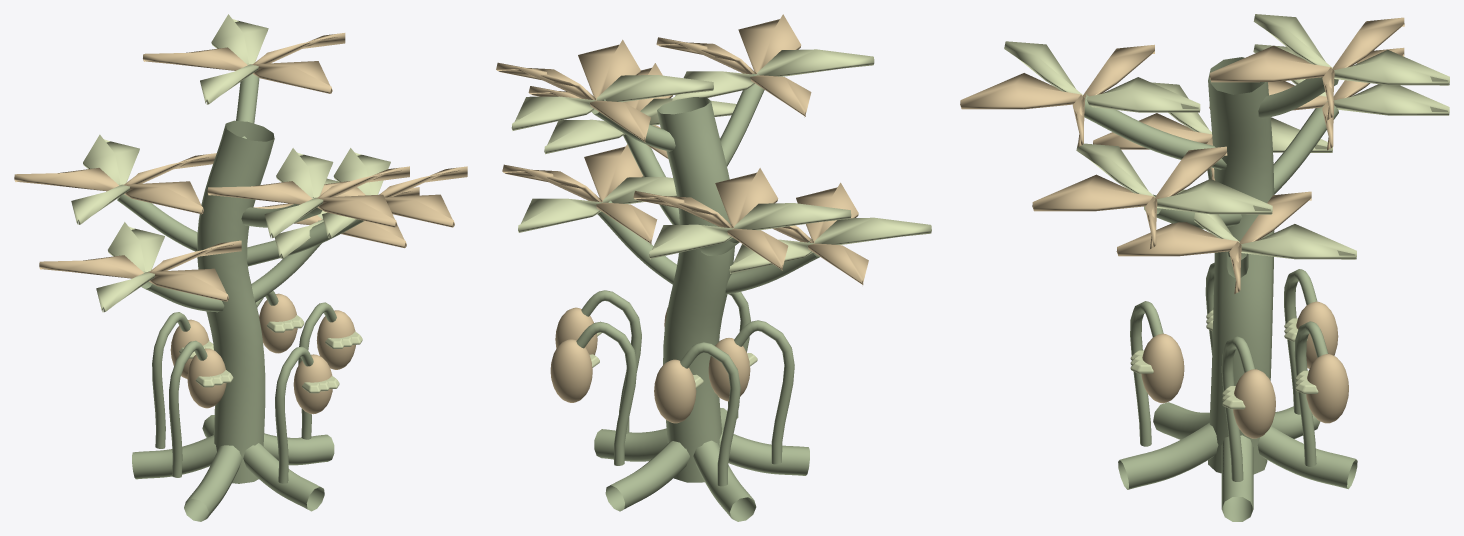
File: bio_canopy_tree_03_near.glb
3 views of the same model, side by side, from view 1: azimuth 30°, elevation 25°; view 2: azimuth 150°, elevation 25°; view 3: azimuth 270°, elevation 25° (orthographic). The views are drawn at different scales.
Visible parts, largest first — view 1: Buttressed trunk, Broad canopy leaf.020, Broad canopy leaf.010, Broad canopy leaf.015, Broad canopy leaf.005, Broad canopy leaf.011, Broad canopy leaf.016, Broad canopy leaf.021, Broad canopy leaf.025, Broad canopy leaf.006, Broad canopy leaf.026, Arched fruit stem.004 (+10 smaller); view 2: Buttressed trunk, Broad canopy leaf.005, Broad canopy leaf.015, Broad canopy leaf.010, Broad canopy leaf, Broad canopy leaf.016, Broad canopy leaf.006, Broad canopy leaf.011, Broad canopy leaf.021, Broad canopy leaf.001, Broad canopy leaf.020, Broad canopy leaf.026 (+9 smaller); view 3: Buttressed trunk, Broad canopy leaf.025, Broad canopy leaf.015, Broad canopy leaf.010, Broad canopy leaf, Broad canopy leaf.016, Broad canopy leaf.026, Broad canopy leaf.011, Broad canopy leaf.001, Broad canopy leaf.006, Pendant spore capsule.002, Pendant spore capsule (+9 smaller).
Part boxes in pixels (x1,y1,x2,y2): Buttressed trunk: [117, 74, 363, 521]; Broad canopy leaf.020: [39, 240, 241, 301]; Broad canopy leaf.010: [207, 166, 409, 227]; Broad canopy leaf.015: [143, 33, 345, 93]; Broad canopy leaf.005: [14, 153, 216, 214]; Broad canopy leaf.011: [264, 148, 333, 238]; Broad canopy leaf.016: [200, 14, 268, 104]; Broad canopy leaf.021: [96, 222, 164, 312]; Broad canopy leaf.025: [320, 166, 467, 227]; Broad canopy leaf.006: [71, 134, 139, 224]; Broad canopy leaf.026: [322, 148, 390, 238]; Arched fruit stem.004: [169, 340, 207, 477]; Buttressed trunk: [592, 73, 819, 521]; Broad canopy leaf.005: [633, 168, 788, 270]; Broad canopy leaf.015: [496, 39, 650, 142]; Broad canopy leaf.010: [656, 14, 811, 117]; Broad canopy leaf: [502, 144, 657, 244]; Broad canopy leaf.016: [511, 75, 713, 130]; Broad canopy leaf.006: [649, 203, 851, 259]; Broad canopy leaf.011: [672, 49, 874, 101]; Broad canopy leaf.021: [729, 217, 931, 273]; Broad canopy leaf.001: [518, 176, 676, 232]; Broad canopy leaf.020: [773, 182, 868, 284]; Broad canopy leaf.026: [544, 98, 736, 154]; Buttressed trunk: [1084, 57, 1357, 521]; Broad canopy leaf.025: [1032, 146, 1227, 248]; Broad canopy leaf.015: [1209, 17, 1404, 120]; Broad canopy leaf.010: [960, 44, 1154, 147]; Broad canopy leaf: [1116, 191, 1311, 293]; Broad canopy leaf.016: [1253, 14, 1449, 85]; Broad canopy leaf.026: [1076, 143, 1272, 214]; Broad canopy leaf.011: [1004, 41, 1200, 112]; Broad canopy leaf.001: [1176, 189, 1356, 259]; Broad canopy leaf.006: [1253, 44, 1449, 115]; Pendant spore capsule.002: [1141, 333, 1184, 403]; Pendant spore capsule: [1233, 369, 1275, 438].
Size of the model in its own units: 2.97 by 2.99 by 2.93.
